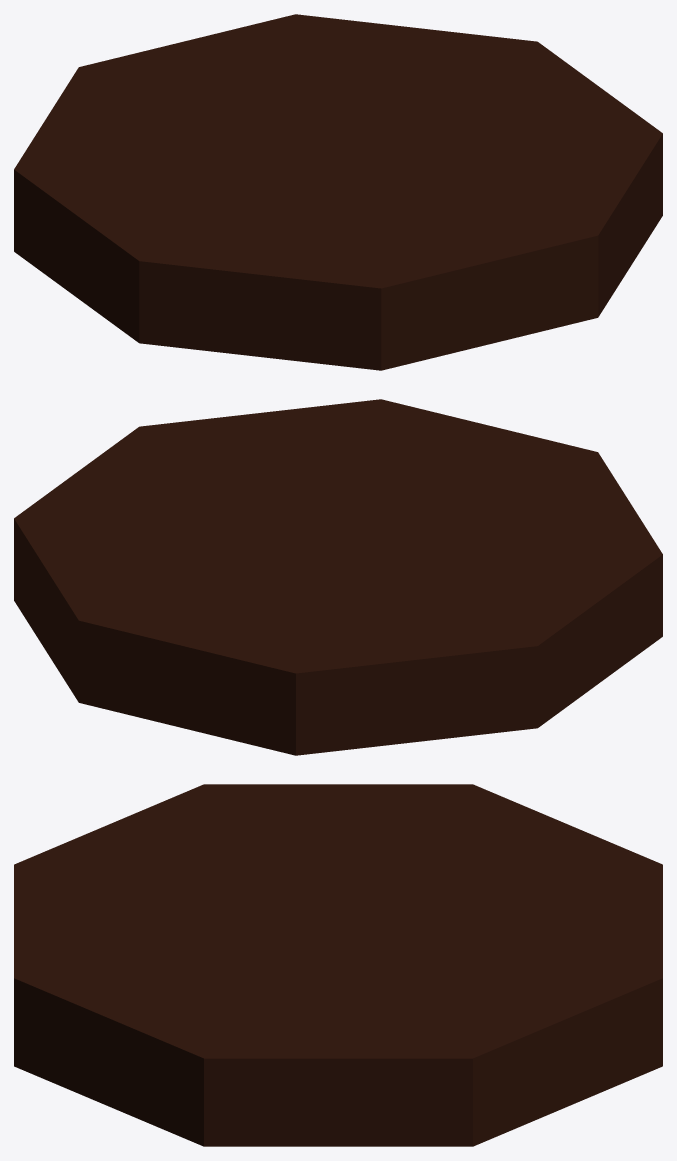
Rendered from Top_Down.glb.
3 renders of one model, top to bottom at view 1: azimuth 30°, elevation 25°; view 2: azimuth 150°, elevation 25°; view 3: azimuth 270°, elevation 25°, orthographic. The views are drawn at different scales.
Parts seen in each view (by area): view 1: Base and Top; view 2: Base and Top; view 3: Base and Top.
Part boxes in pixels (<box>): Base and Top: <box>14,14,662,370</box>; Base and Top: <box>14,399,662,755</box>; Base and Top: <box>14,784,662,1146</box>.
Bounding box in the file's own units: 5.19 × 0.778 × 5.19.
